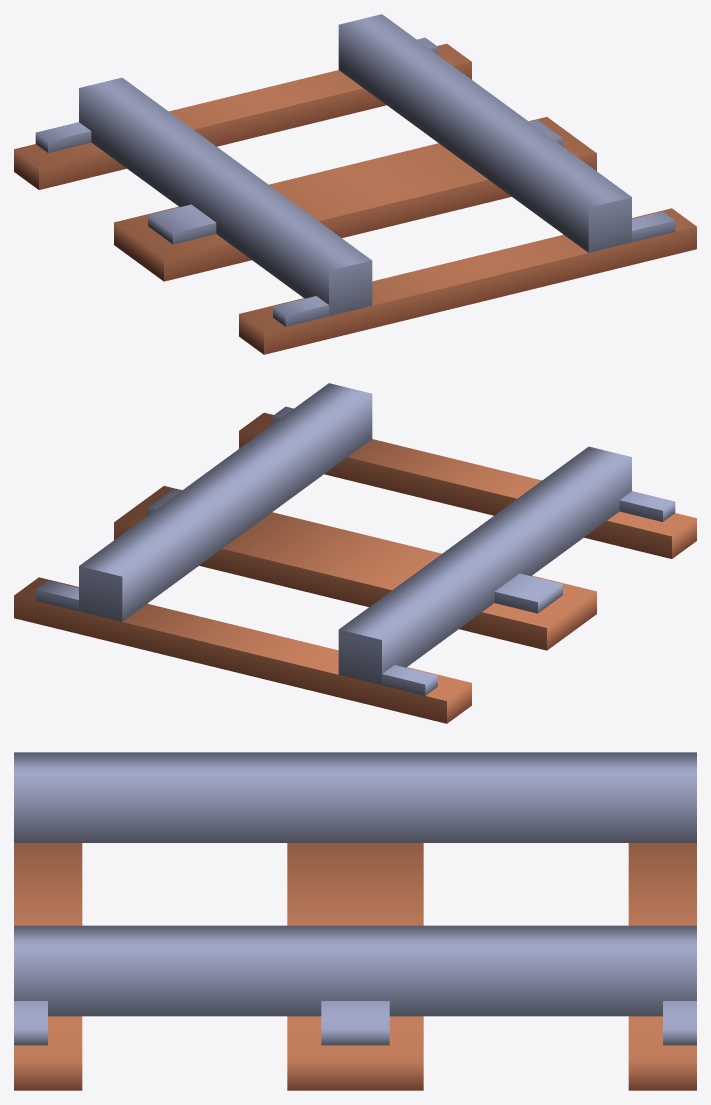
The model's file is track-detailed.glb.
3 renders of one model, top to bottom at view 1: azimuth 30°, elevation 25°; view 2: azimuth 150°, elevation 25°; view 3: azimuth 270°, elevation 25°, orthographic. The views are drawn at different scales.
Visible parts, largest first — view 1: track-detailed; view 2: track-detailed; view 3: track-detailed.
Part boxes in pixels (left/top/right/bottom): track-detailed: left=14, top=14, right=696, bottom=354; track-detailed: left=14, top=383, right=696, bottom=723; track-detailed: left=14, top=752, right=696, bottom=1090.
Size of the model in its own units: 1 by 0.15 by 1.
